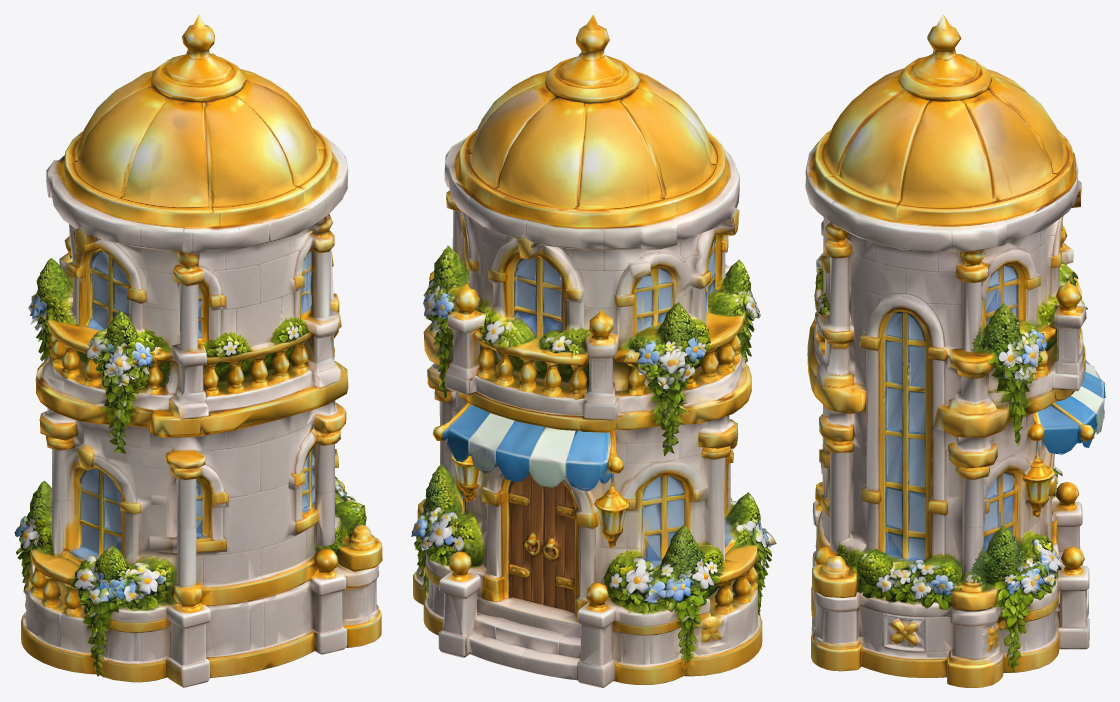
File: HaloDomeHouse_06_parts.glb
3 renders of one model, left to right at view 1: azimuth 30°, elevation 25°; view 2: azimuth 150°, elevation 25°; view 3: azimuth 270°, elevation 25°, orthographic.
Visible parts, largest first — view 1: HaloDomeHouse_06_Body_t00, HaloDomeHouse_06_Body_t01, HaloDomeHouse_06_Body_t10, HaloDomeHouse_06_Body_t11, HaloDomeHouse_06_Glass, HaloDomeHouse_06_WinPane; view 2: HaloDomeHouse_06_Body_t00, HaloDomeHouse_06_Body_t01, HaloDomeHouse_06_Body_t10, HaloDomeHouse_06_Body_t11, HaloDomeHouse_06_Awning, HaloDomeHouse_06_Door, HaloDomeHouse_06_WinPane, HaloDomeHouse_06_Glass, HaloDomeHouse_06_DoorHw; view 3: HaloDomeHouse_06_Body_t11, HaloDomeHouse_06_Body_t01, HaloDomeHouse_06_Body_t10, HaloDomeHouse_06_Body_t00, HaloDomeHouse_06_WinPane, HaloDomeHouse_06_Glass, HaloDomeHouse_06_Awning.
Boxes of the visible parts, <box> form: HaloDomeHouse_06_Body_t00: <box>15,70,378,687</box>; HaloDomeHouse_06_Body_t01: <box>21,69,381,686</box>; HaloDomeHouse_06_Body_t10: <box>14,14,382,679</box>; HaloDomeHouse_06_Body_t11: <box>21,53,382,677</box>; HaloDomeHouse_06_Glass: <box>81,251,315,551</box>; HaloDomeHouse_06_WinPane: <box>81,251,315,551</box>; HaloDomeHouse_06_Body_t00: <box>415,90,761,677</box>; HaloDomeHouse_06_Body_t01: <box>413,70,765,687</box>; HaloDomeHouse_06_Body_t10: <box>411,14,768,664</box>; HaloDomeHouse_06_Body_t11: <box>411,52,776,655</box>; HaloDomeHouse_06_Awning: <box>432,373,621,491</box>; HaloDomeHouse_06_Door: <box>492,466,604,613</box>; HaloDomeHouse_06_WinPane: <box>515,240,715,558</box>; HaloDomeHouse_06_Glass: <box>515,240,715,558</box>; HaloDomeHouse_06_DoorHw: <box>494,478,586,603</box>; HaloDomeHouse_06_Body_t11: <box>812,54,1086,672</box>; HaloDomeHouse_06_Body_t01: <box>805,68,1089,687</box>; HaloDomeHouse_06_Body_t10: <box>807,14,1089,675</box>; HaloDomeHouse_06_Body_t00: <box>807,69,1089,687</box>; HaloDomeHouse_06_WinPane: <box>883,266,1044,559</box>; HaloDomeHouse_06_Glass: <box>883,266,1044,559</box>; HaloDomeHouse_06_Awning: <box>1042,327,1105,454</box>.
Bounding box in the file's own units: 19.43 × 34.68 × 15.82.
9 materials, 8 textured.
